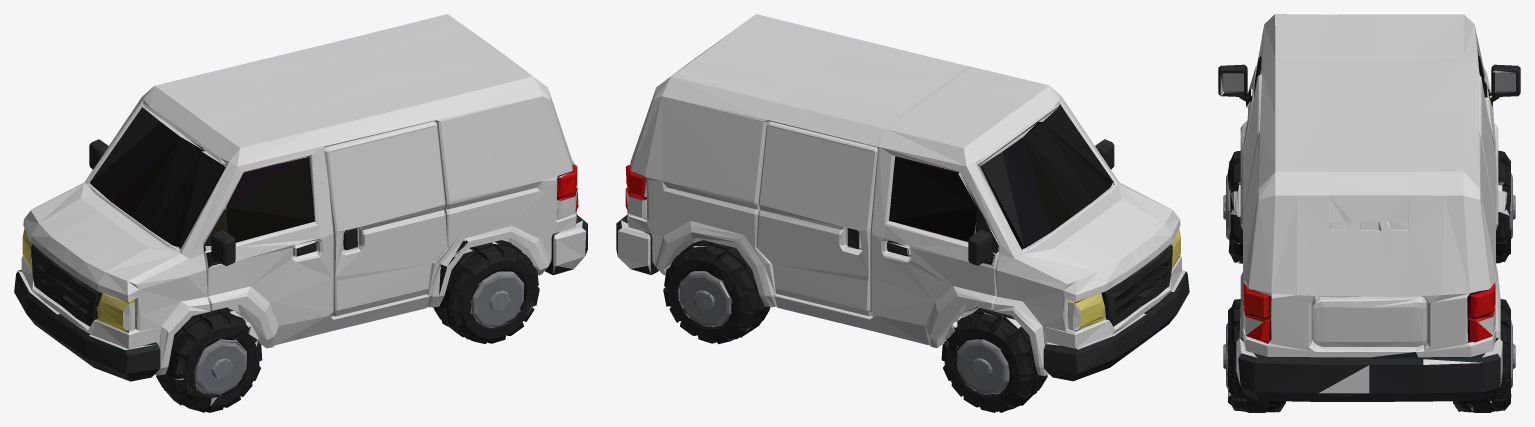
Rendered from van.glb.
3 renders of one model, left to right at view 1: azimuth 30°, elevation 25°; view 2: azimuth 150°, elevation 25°; view 3: azimuth 270°, elevation 25°, orthographic. The views are drawn at different scales.
Bounding box in the file's own units: 0.9561 × 0.4546 × 0.4683.
